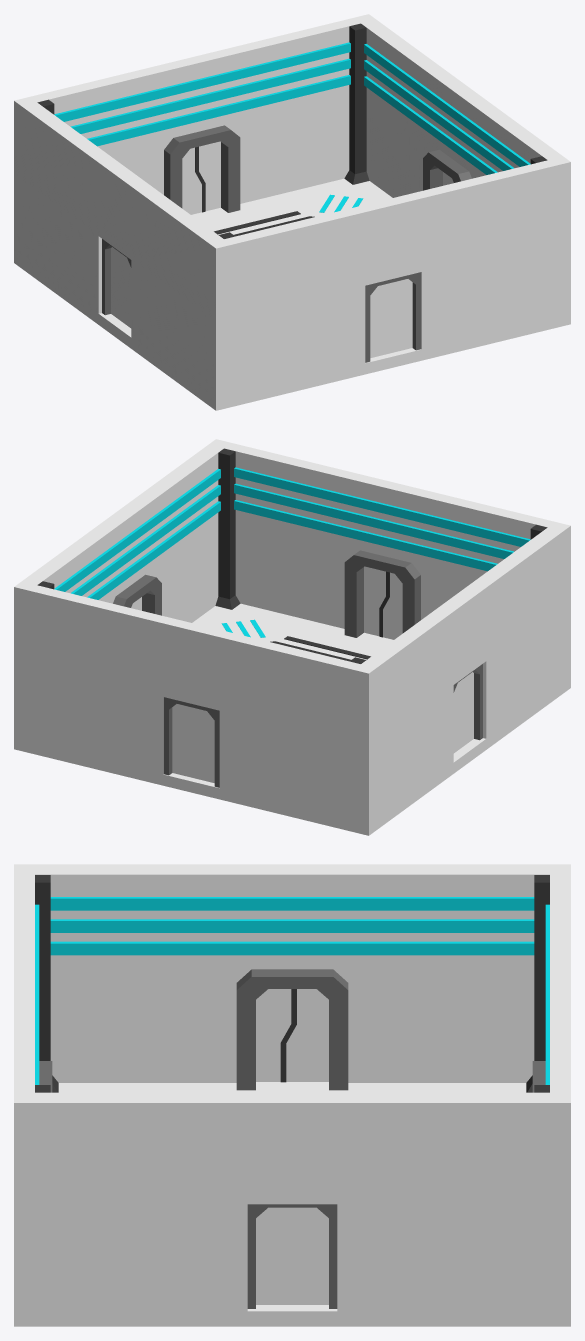
Rendered from Room8.fbx.
3 views of the same model, one above another, from view 1: azimuth 30°, elevation 25°; view 2: azimuth 150°, elevation 25°; view 3: azimuth 270°, elevation 25° (orthographic). The views are drawn at different scales.
Parts seen in each view (by area): view 1: Plane.026, Plane.002, Cube.005, Plane.021, Door2.038, Plane.025, Cube.002, Plane.006, Plane.020, Plane.027, Plane.024, Plane.019 (+3 smaller); view 2: Plane.026, Plane.002, Cube.005, Plane.021, Door2.038, Plane.027, Cube.002, Plane.023, Plane.024, Plane.025, Plane.020, Plane.019 (+4 smaller); view 3: Plane.021, Plane.002, Cube.005, Door2.038, Plane.026, Plane.015, Cube.002, Plane.017, Plane.004, Plane.018, Plane.014, Plane.019 (+1 smaller).
Boxes of the visible parts, x1,y1,x2,y2 form: Plane.026: (15, 14, 570, 399); Plane.002: (14, 100, 223, 399); Cube.005: (54, 42, 530, 212); Plane.021: (361, 14, 570, 197); Door2.038: (14, 178, 570, 410); Plane.025: (164, 125, 240, 212); Cube.002: (37, 23, 547, 238); Plane.006: (370, 283, 395, 357); Plane.020: (389, 279, 412, 351); Plane.027: (365, 272, 421, 362); Plane.024: (199, 141, 220, 211); Plane.019: (423, 149, 471, 190); Plane.026: (14, 439, 569, 824); Plane.002: (361, 525, 570, 824); Cube.005: (54, 467, 530, 637); Plane.021: (14, 439, 223, 622); Door2.038: (14, 603, 570, 835); Plane.027: (344, 550, 420, 637); Cube.002: (37, 448, 547, 663); Plane.023: (189, 708, 214, 782); Plane.024: (172, 704, 195, 776); Plane.025: (163, 697, 219, 787); Plane.020: (364, 566, 385, 636); Plane.019: (113, 574, 161, 615); Plane.021: (14, 1092, 570, 1311); Plane.002: (14, 864, 570, 1082); Cube.005: (35, 897, 549, 1084); Door2.038: (14, 1082, 570, 1326); Plane.026: (14, 864, 570, 1102); Plane.015: (236, 969, 348, 1090); Cube.002: (35, 875, 549, 1092); Plane.017: (282, 1207, 328, 1304); Plane.004: (286, 989, 328, 1081); Plane.018: (256, 1207, 293, 1304); Plane.014: (256, 989, 291, 1081); Plane.019: (247, 1204, 337, 1308).
Bounding box in the file's own units: 1658 × 725 × 1635.
1 material, 1 textured.
